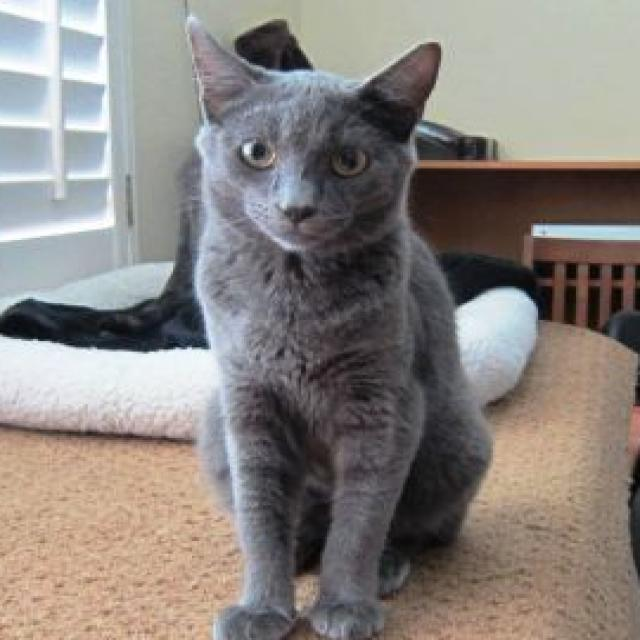Russian Blue: (175, 10, 495, 640)
